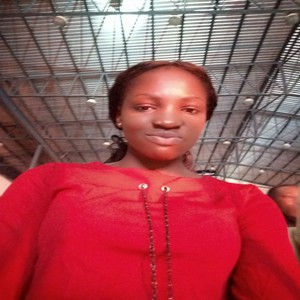Fulokoja_female_student: (111, 60, 225, 300)
